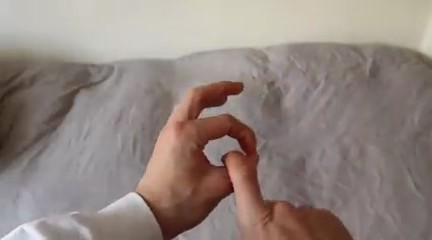Q: (134, 75, 379, 240)
